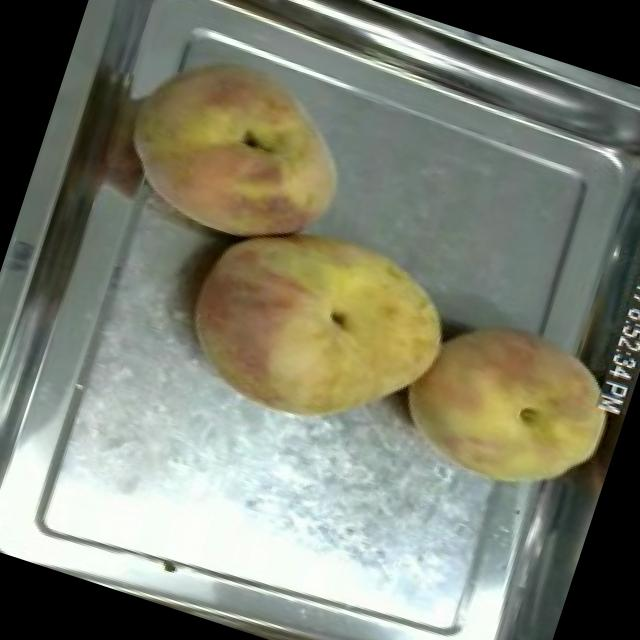Fruit: (163, 192, 471, 464), (100, 18, 377, 273), (382, 292, 639, 524)
